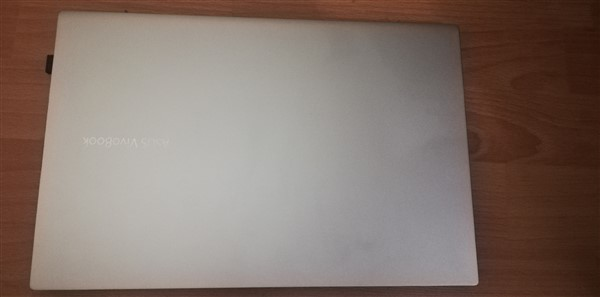laptop: (24, 10, 486, 288)
